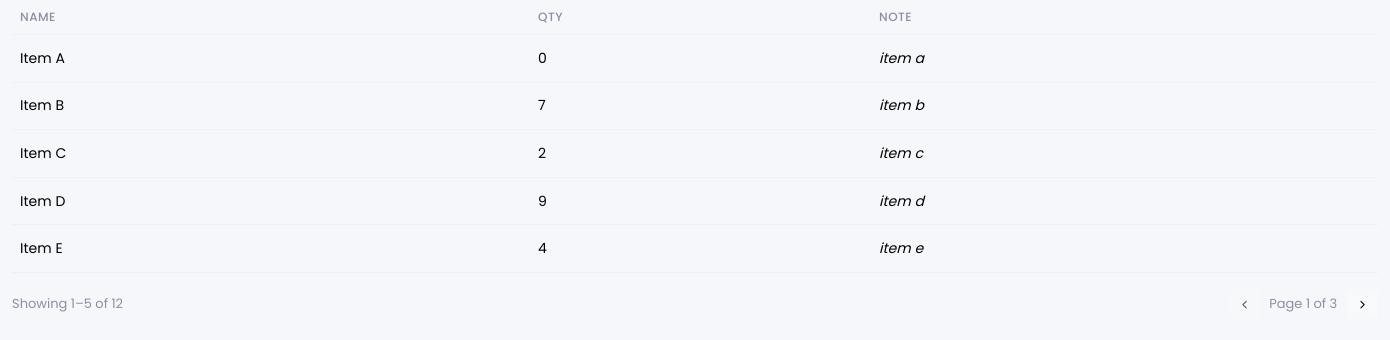
Test: DataTable › paginates
Expected: the button named "Previous page" is disabled, [1228, 289, 1260, 319]
Step 1. Click the button named "Next page" → (1362, 304), box [1347, 289, 1378, 319]
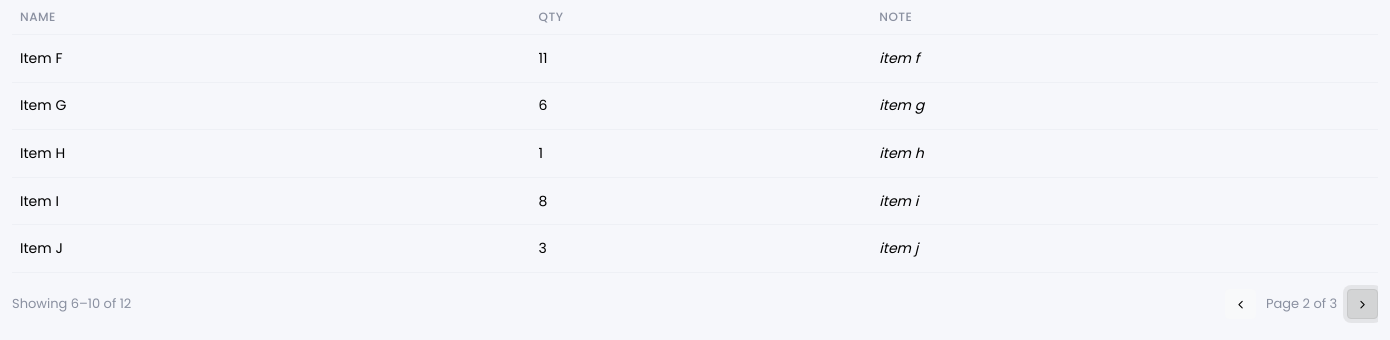
Now the cell "Item F" is shown, box [12, 34, 531, 82]
Now the text "Page 2 of 3" is shown, box [1266, 294, 1337, 314]
